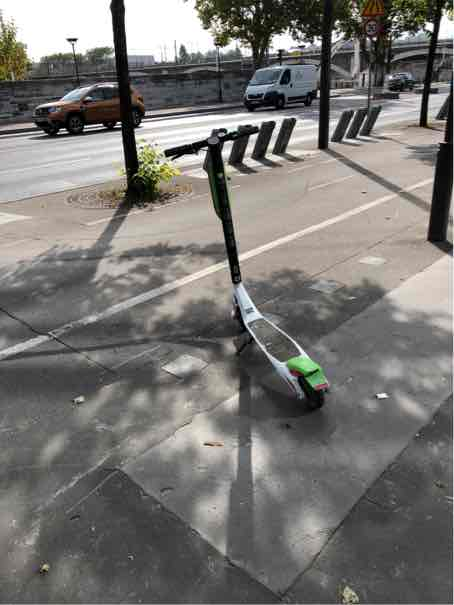scooter: (159, 126, 336, 431)
